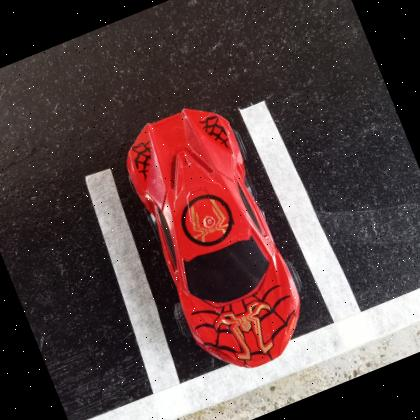Car: (127, 109, 301, 369)
